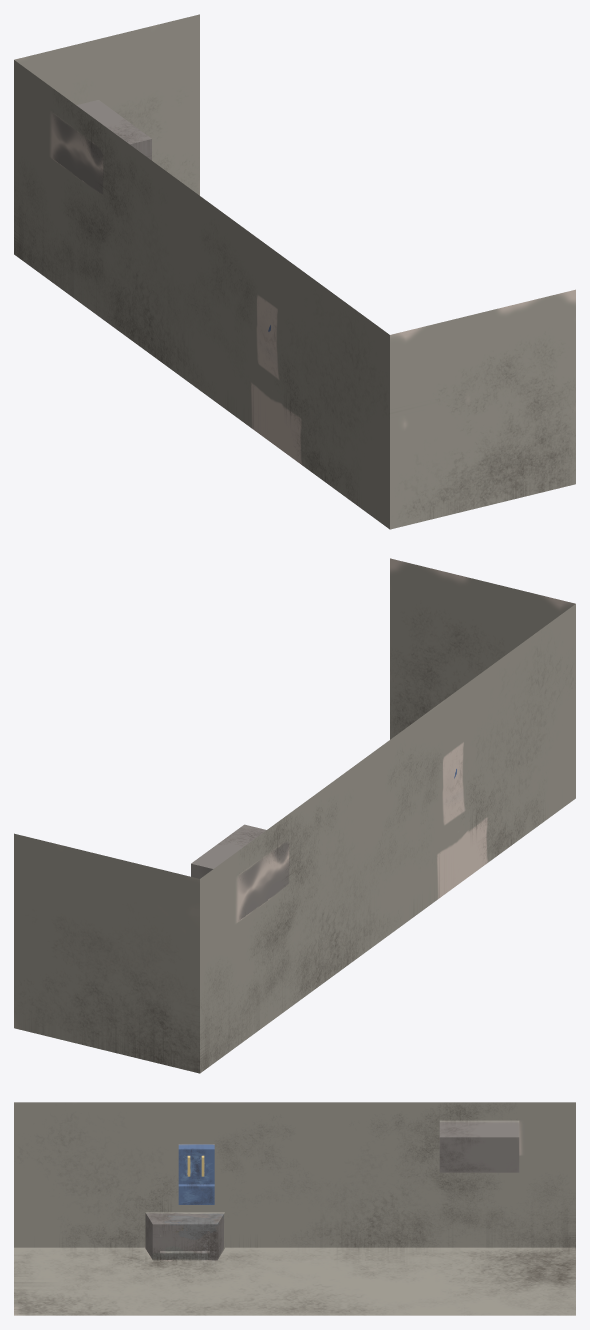
The model's file is room One.FBX.
The picture shows the model from 3 angles, top to bottom: view 1: azimuth 30°, elevation 25°; view 2: azimuth 150°, elevation 25°; view 3: azimuth 270°, elevation 25°; orthographic projection. The views are drawn at different scales.
Visible parts, largest first — view 1: room_2; view 2: room_2; view 3: room_2.
Boxes of the visible parts, x1=… form: room_2: x1=14, y1=14, x2=575, y2=529; room_2: x1=14, y1=558, x2=575, y2=1073; room_2: x1=14, y1=1102, x2=575, y2=1315.
Bounding box in the file's own units: 20 × 20 × 70.02.
